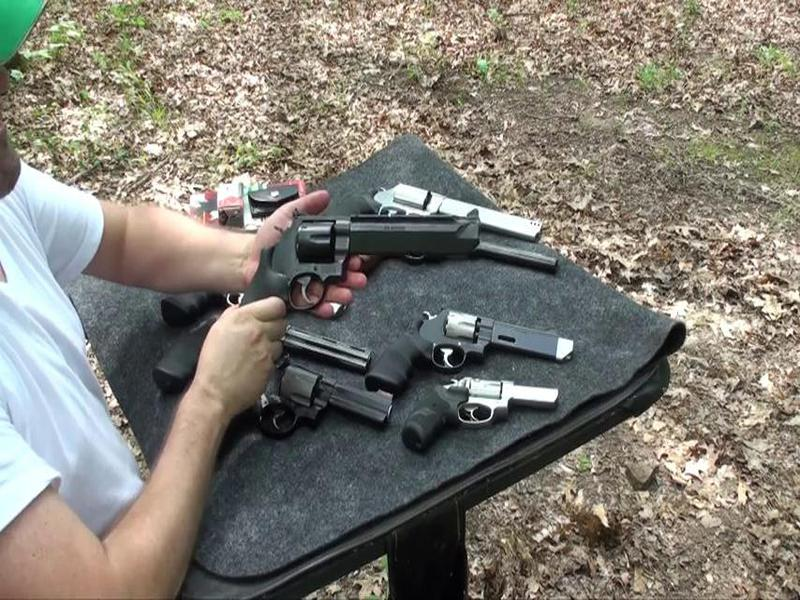Revolver: (242, 202, 490, 321)
